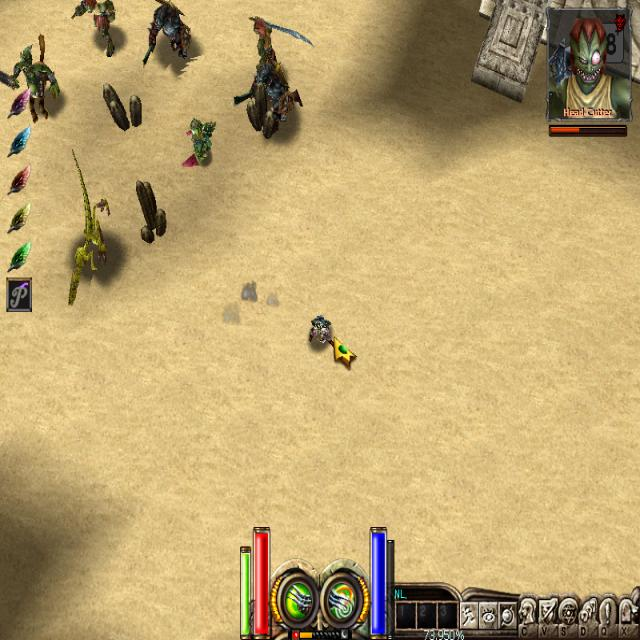monster: (45, 153, 131, 324), (170, 86, 232, 195), (0, 42, 76, 126), (142, 0, 202, 82)
